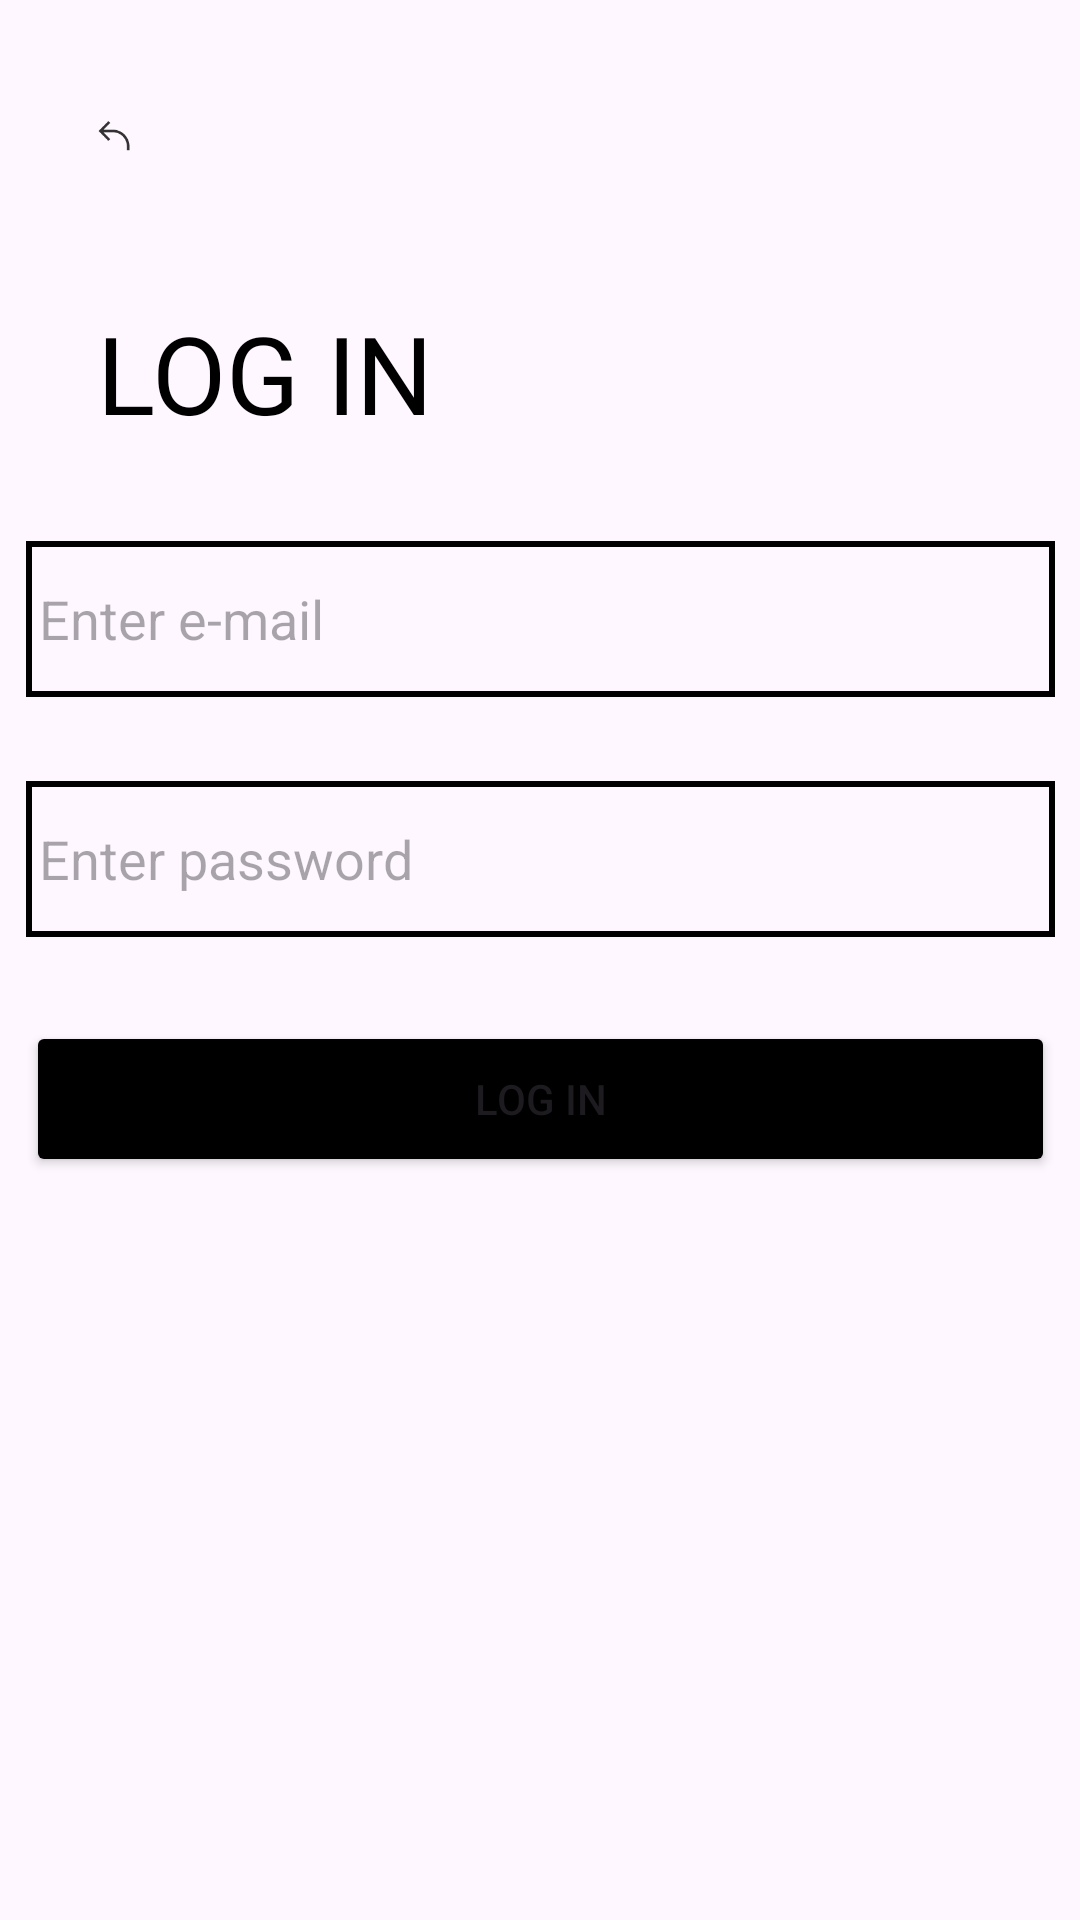

Icon bounding boxes for this 1080px×1920px phone screenshot, format detection(x1, y1, x2, y2):
back: detection(99, 121, 130, 151)
